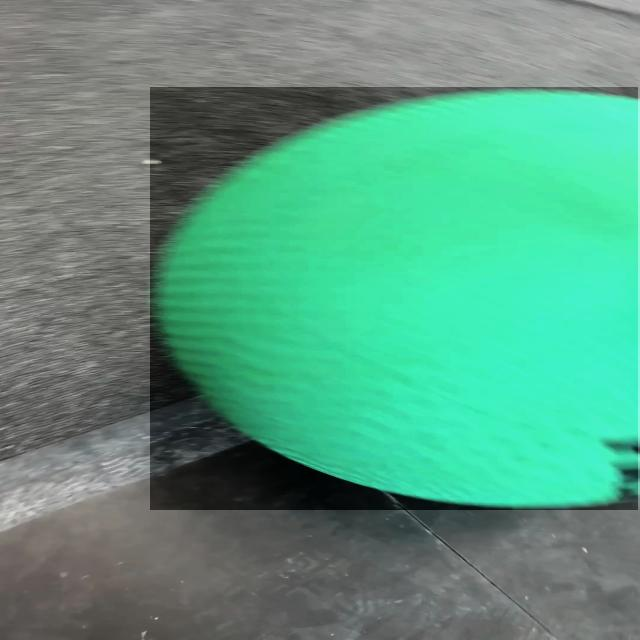Algae: (150, 87, 638, 510)
